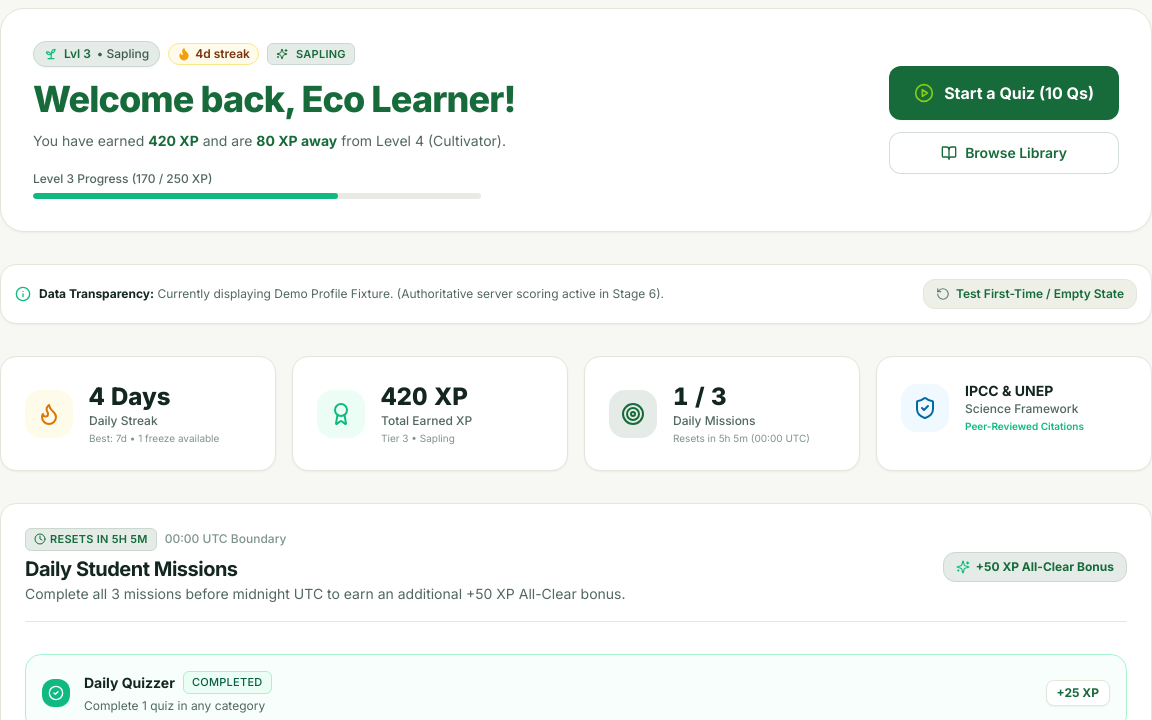
Test case: Stage 5 — Student Dashboard & Progress Hub Verification › toggles to first-time state cleanly, displaying EmptyState without fabricated data
Click the button "Test First-Time / Empty State". click: {"x": 1030, "y": 294}
box: [923,279,1137,309]
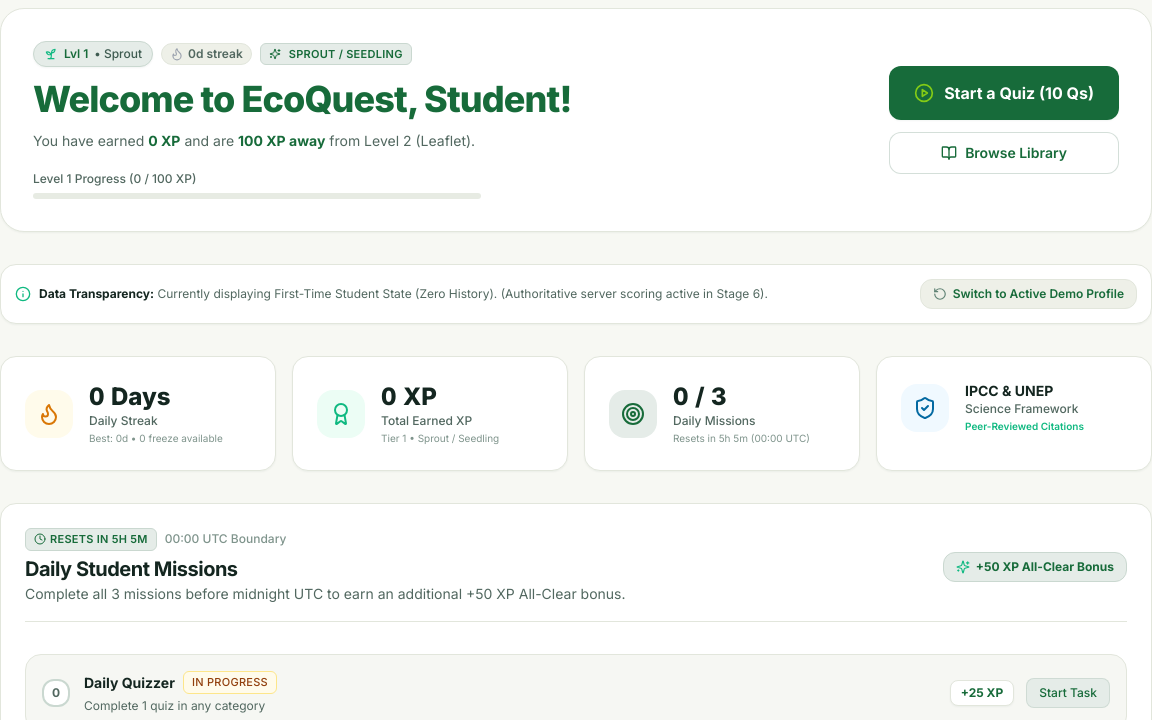
Now the heading "Welcome to EcoQuest, Student!" is shown, box [33,79,571,119]
Now the text "Level 1 Progress (0 / 100 XP)" is shown, box [33,171,196,187]
Now the text "100 XP away" is shown, box [238,132,325,149]
# Toggle back to active demo profile
Click the button "Switch to Active Demo Profile". click: {"x": 1028, "y": 294}
box: [920,279,1137,309]
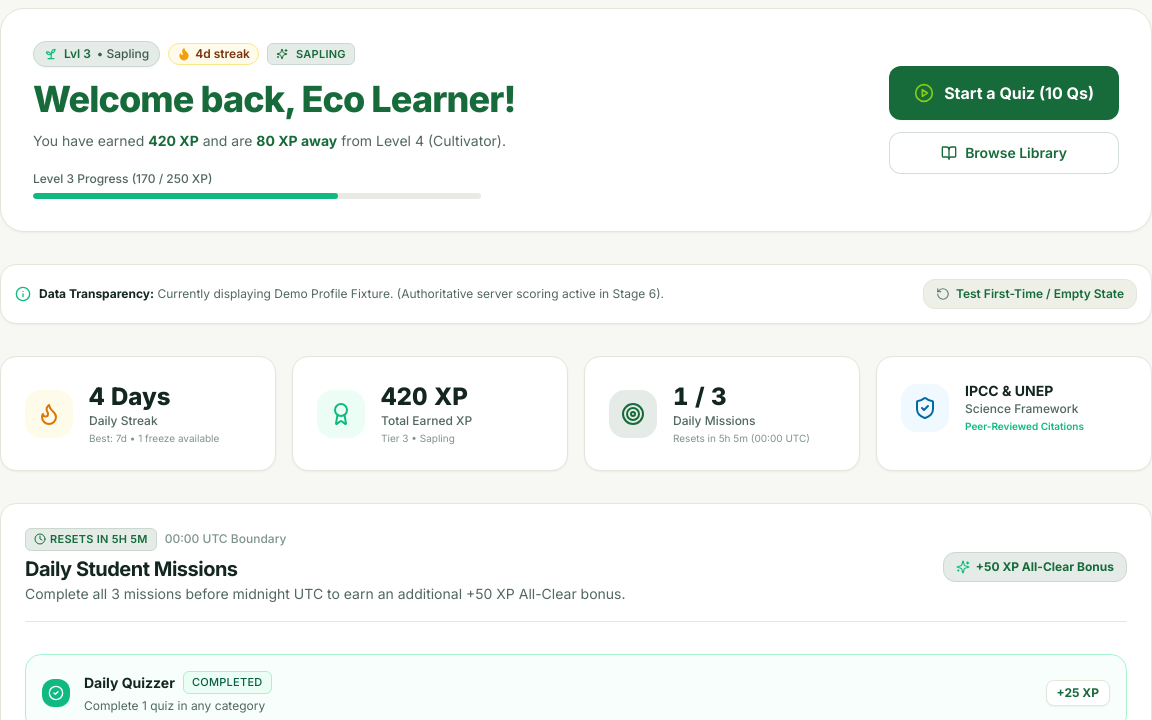
Now the heading "Welcome back, Eco Learner!" is shown, box [33,79,516,119]
